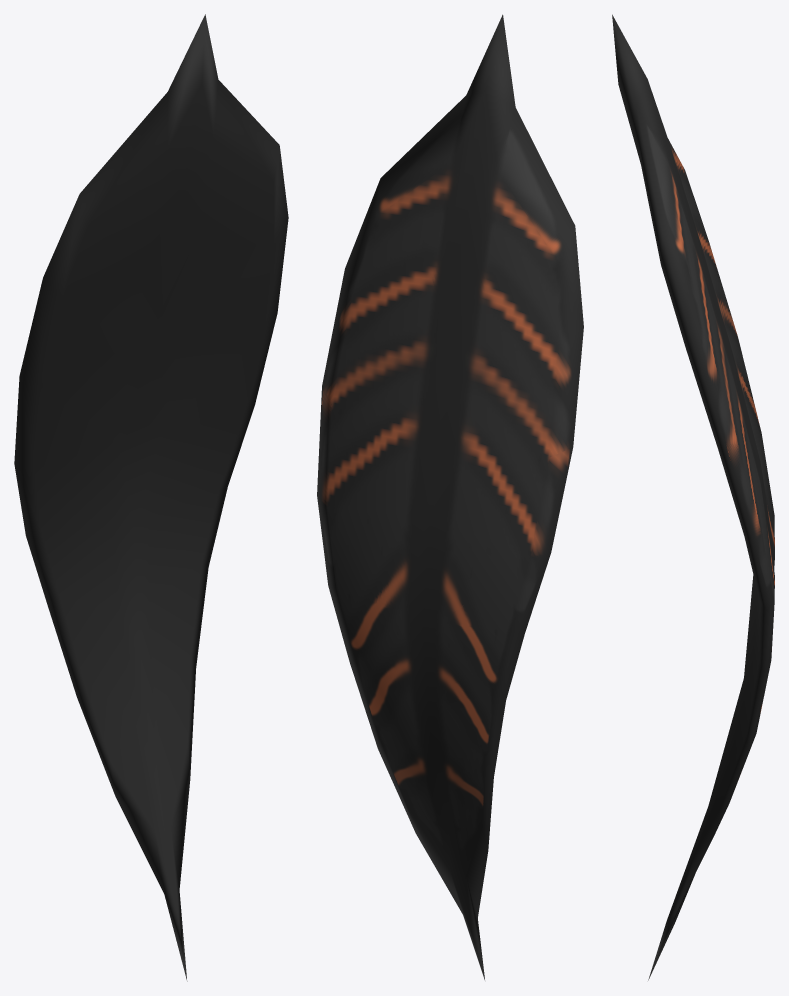
File: projectile banggai.fbx
3 renders of one model, left to right at view 1: azimuth 30°, elevation 25°; view 2: azimuth 150°, elevation 25°; view 3: azimuth 270°, elevation 25°, orthographic. The views are drawn at different scales.
Visible parts, largest first — view 1: Cube; view 2: Cube; view 3: Cube.
Part boxes in pixels (box(x1,y1,x2,y2)): Cube: box(14, 14, 288, 981); Cube: box(317, 14, 583, 979); Cube: box(612, 14, 774, 980).
Bounding box in the file's own units: 36.48 × 133 × 20.22.
1 material, 1 textured.
